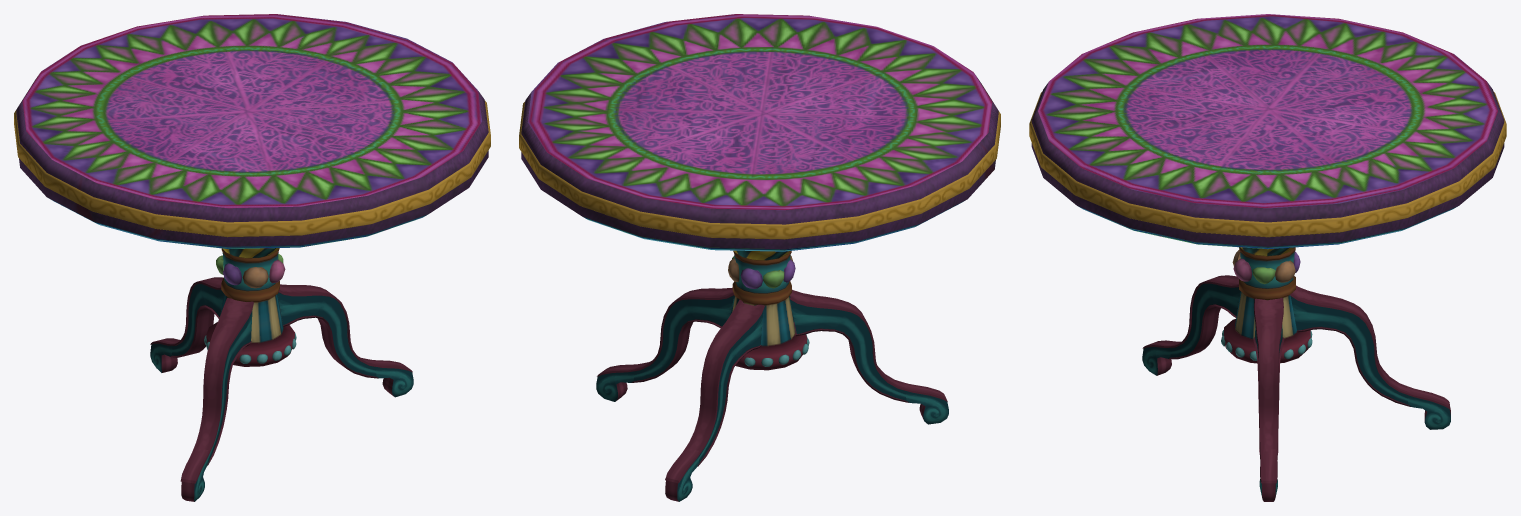
The model's file is FortuneTeller_Table_Scaled.fbx.
The picture shows the model from 3 angles, left to right: view 1: azimuth 30°, elevation 25°; view 2: azimuth 150°, elevation 25°; view 3: azimuth 270°, elevation 25°; orthographic projection.
Visible parts, largest first — view 1: FortuneTeller_TableTop2, FortuneTeller_TableBand, FortuneTeller_Shaft, FortuneTeller_Leg2, FortuneTeller_Leg1, FortuneTeller_Leg3, FortuneTeller_Foot2, FortuneTeller_Foot1, FortuneTeller_Foot3; view 2: FortuneTeller_TableTop2, FortuneTeller_TableBand, FortuneTeller_Leg3, FortuneTeller_Shaft, FortuneTeller_Leg2, FortuneTeller_Leg1, FortuneTeller_Foot3, FortuneTeller_Foot2, FortuneTeller_Foot1; view 3: FortuneTeller_TableTop2, FortuneTeller_TableBand, FortuneTeller_Leg3, FortuneTeller_Shaft, FortuneTeller_Leg1, FortuneTeller_Leg2, FortuneTeller_Foot3, FortuneTeller_Foot1, FortuneTeller_Foot2.
Boxes of the visible parts, x1=… form: FortuneTeller_TableTop2: x1=16, y1=14, x2=488, y2=249; FortuneTeller_TableBand: x1=14, y1=100, x2=490, y2=237; FortuneTeller_Shaft: x1=206, y1=248, x2=294, y2=366; FortuneTeller_Leg2: x1=194, y1=298, x2=253, y2=464; FortuneTeller_Leg1: x1=277, y1=284, x2=377, y2=378; FortuneTeller_Leg3: x1=171, y1=277, x2=223, y2=357; FortuneTeller_Foot2: x1=180, y1=448, x2=210, y2=501; FortuneTeller_Foot1: x1=368, y1=359, x2=413, y2=397; FortuneTeller_Foot3: x1=150, y1=338, x2=180, y2=372; FortuneTeller_TableTop2: x1=521, y1=14, x2=998, y2=251; FortuneTeller_TableBand: x1=519, y1=86, x2=1000, y2=239; FortuneTeller_Leg3: x1=686, y1=299, x2=764, y2=464; FortuneTeller_Shaft: x1=732, y1=250, x2=807, y2=370; FortuneTeller_Leg2: x1=789, y1=289, x2=907, y2=402; FortuneTeller_Leg1: x1=632, y1=287, x2=734, y2=382; FortuneTeller_Foot3: x1=665, y1=448, x2=700, y2=501; FortuneTeller_Foot2: x1=902, y1=382, x2=948, y2=424; FortuneTeller_Foot1: x1=596, y1=363, x2=641, y2=401; FortuneTeller_TableTop2: x1=1031, y1=14, x2=1504, y2=249; FortuneTeller_TableBand: x1=1029, y1=92, x2=1506, y2=237; FortuneTeller_Leg3: x1=1290, y1=285, x2=1409, y2=406; FortuneTeller_Shaft: x1=1224, y1=247, x2=1310, y2=363; FortuneTeller_Leg1: x1=1253, y1=297, x2=1284, y2=454; FortuneTeller_Leg2: x1=1169, y1=275, x2=1240, y2=359; FortuneTeller_Foot3: x1=1407, y1=386, x2=1450, y2=429; FortuneTeller_Foot1: x1=1259, y1=449, x2=1277, y2=501; FortuneTeller_Foot2: x1=1142, y1=340, x2=1181, y2=375.
Bounding box in the file's own units: 90.7 × 66.69 × 90.73.
